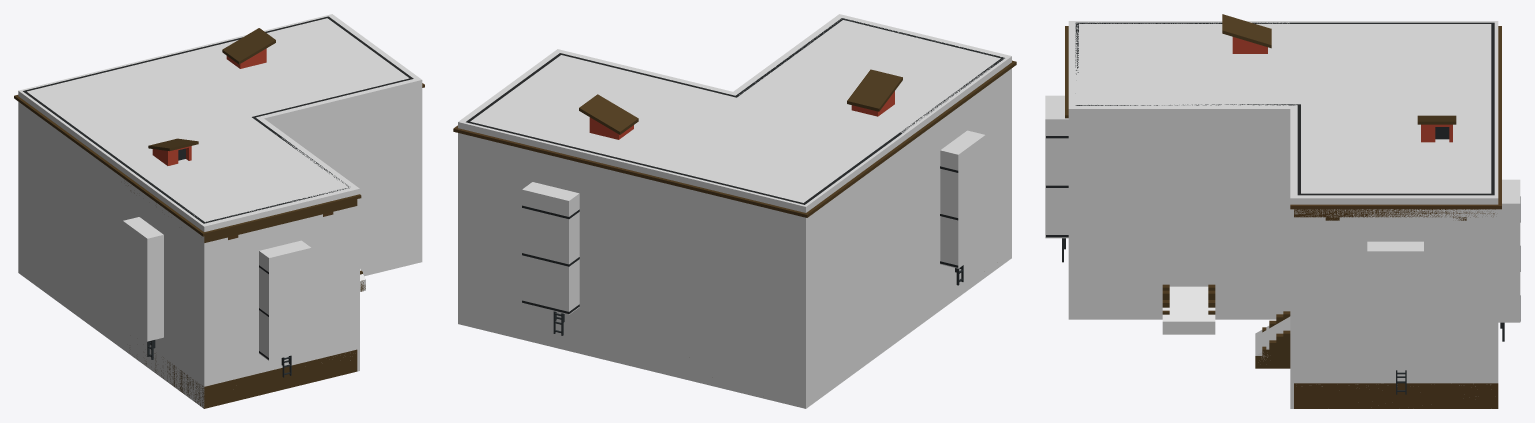
Rendered from Building_B2_Home01_1_01.FBX.
3 views of the same model, side by side, from view 1: azimuth 30°, elevation 25°; view 2: azimuth 150°, elevation 25°; view 3: azimuth 270°, elevation 25° (orthographic). The views are drawn at different scales.
Parts seen in each view (by area): view 1: Building_B2_Home01_Damage_1_01, Building_B2_Home01_Live_1_01; view 2: Building_B2_Home01_Damage_1_01, Building_B2_Home01_Live_1_01; view 3: Building_B2_Home01_Damage_1_01, Building_B2_Home01_Live_1_01.
Boxes of the visible parts, x1,y1,x2,y2 form: Building_B2_Home01_Damage_1_01: (18, 14, 422, 408); Building_B2_Home01_Live_1_01: (14, 16, 424, 408); Building_B2_Home01_Damage_1_01: (458, 14, 1011, 408); Building_B2_Home01_Live_1_01: (453, 18, 1016, 335); Building_B2_Home01_Damage_1_01: (1045, 21, 1520, 408); Building_B2_Home01_Live_1_01: (1046, 14, 1520, 408).
Bounding box in the file's own units: 17.13 × 9.6 × 17.53.
